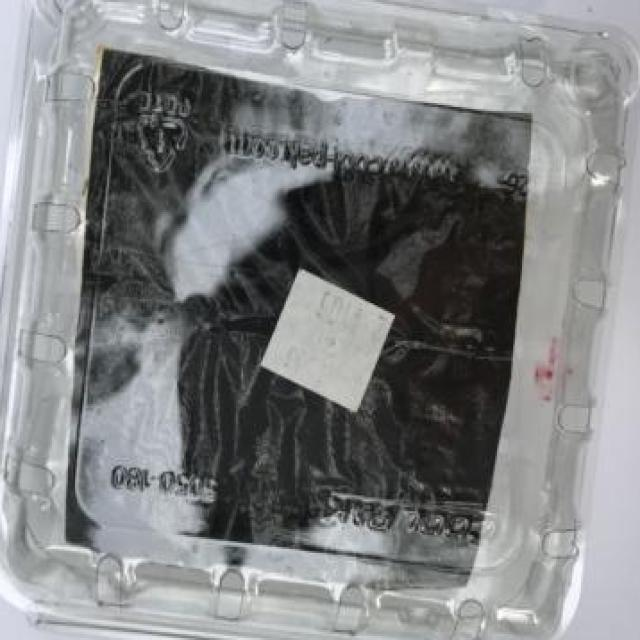organic: (10, 10, 616, 624)
